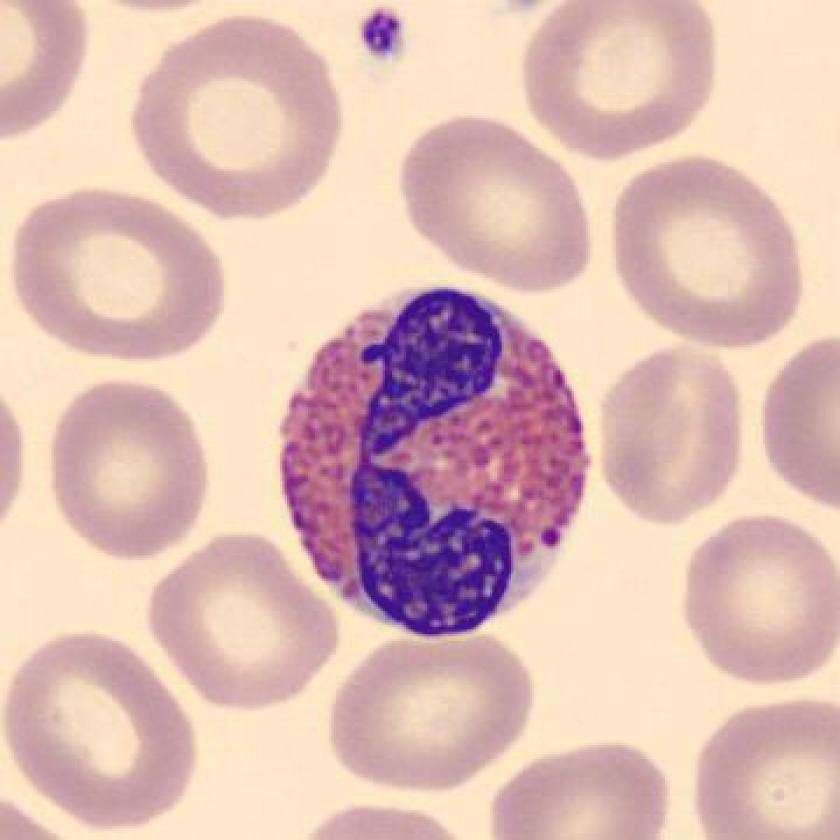eosinophil: (269, 274, 603, 647)
